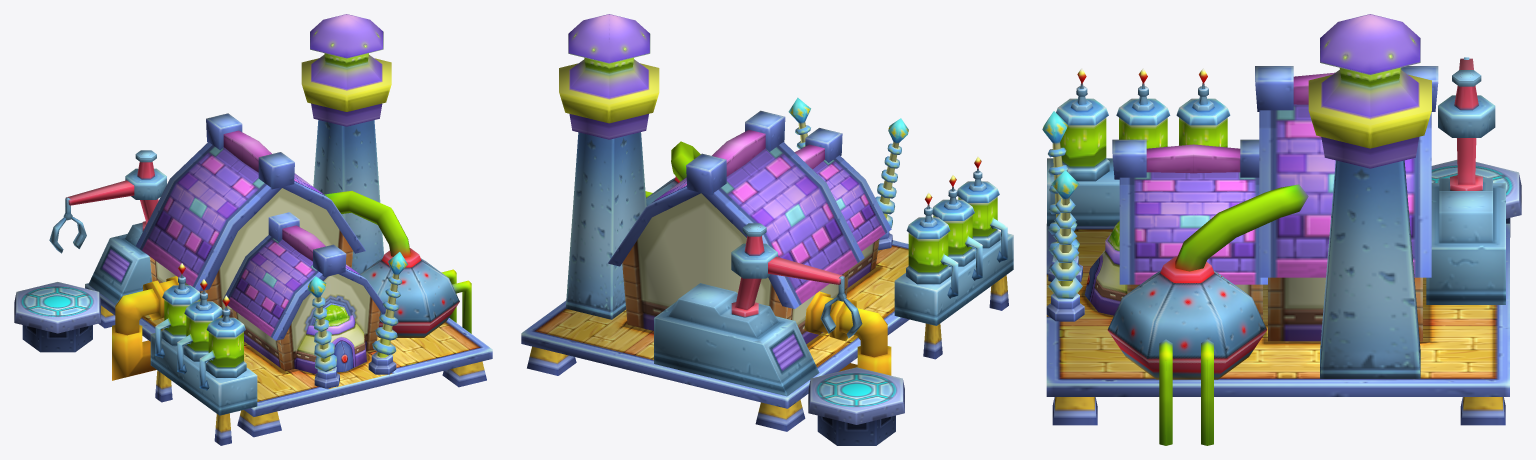
Rendered from kjyjzx.FBX.
The picture shows the model from 3 angles, left to right: view 1: azimuth 30°, elevation 25°; view 2: azimuth 150°, elevation 25°; view 3: azimuth 270°, elevation 25°; orthographic projection. The views are drawn at different scales.
Parts seen in each view (by area): view 1: kjyjzx_01, kjyjzx, kjyjzx_05, kjyjzx_05_02, kjyjzx_05_02_02; view 2: kjyjzx_01, kjyjzx, kjyjzx_05, kjyjzx_05_02, kjyjzx_05_02_02; view 3: kjyjzx_01, kjyjzx, kjyjzx_05, kjyjzx_05_02.
Part boxes in pixels (bbox=[...]): kjyjzx_01: bbox=[85, 14, 492, 445]; kjyjzx: bbox=[14, 191, 471, 390]; kjyjzx_05: bbox=[88, 199, 158, 304]; kjyjzx_05_02: bbox=[66, 150, 166, 205]; kjyjzx_05_02_02: bbox=[49, 197, 86, 253]; kjyjzx_01: bbox=[521, 14, 1013, 431]; kjyjzx: bbox=[645, 97, 1007, 445]; kjyjzx_05: bbox=[654, 277, 819, 396]; kjyjzx_05_02: bbox=[731, 223, 844, 284]; kjyjzx_05_02_02: bbox=[820, 276, 862, 338]; kjyjzx_01: bbox=[1046, 14, 1509, 425]; kjyjzx: bbox=[1042, 68, 1521, 445]; kjyjzx_05: bbox=[1426, 138, 1505, 304]; kjyjzx_05_02: bbox=[1438, 58, 1495, 137].
Size of the model in its own units: 175 by 144 by 152.
